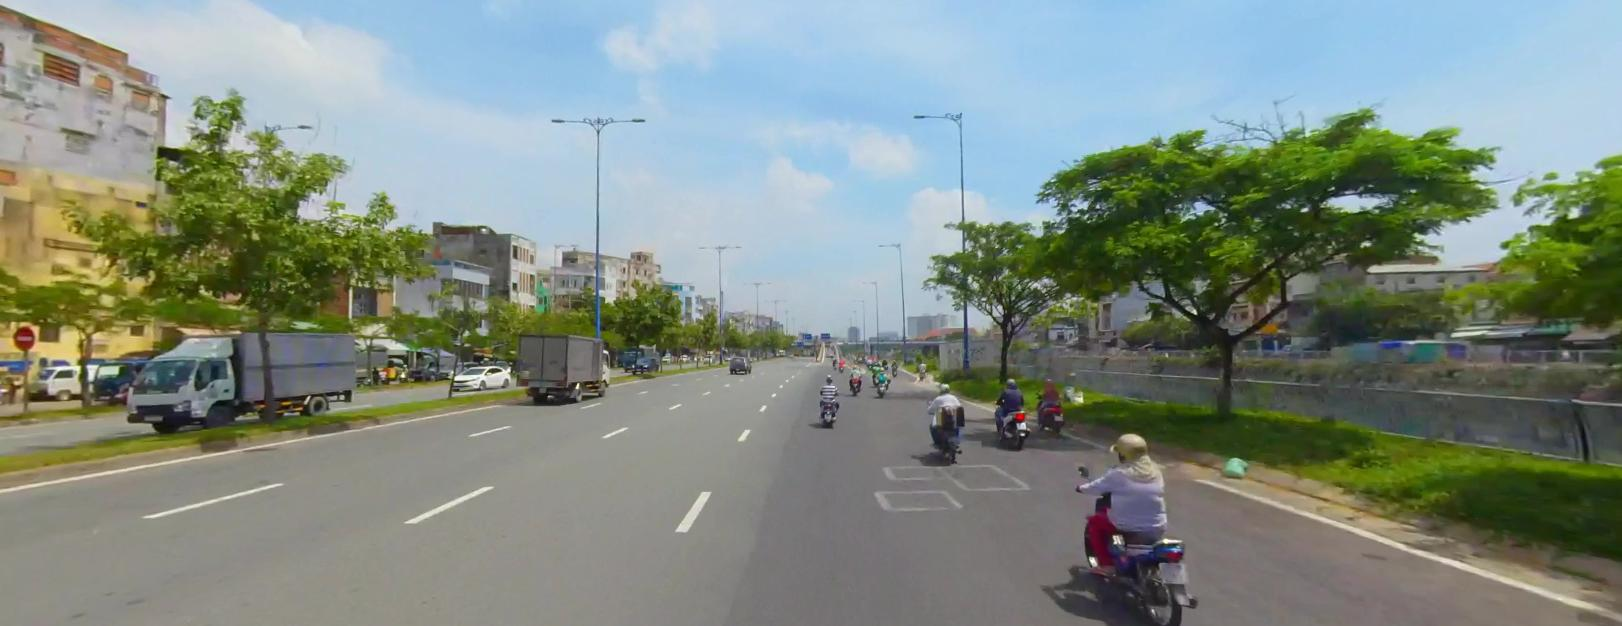Cam nguoc chieu: (13, 324, 33, 347)
